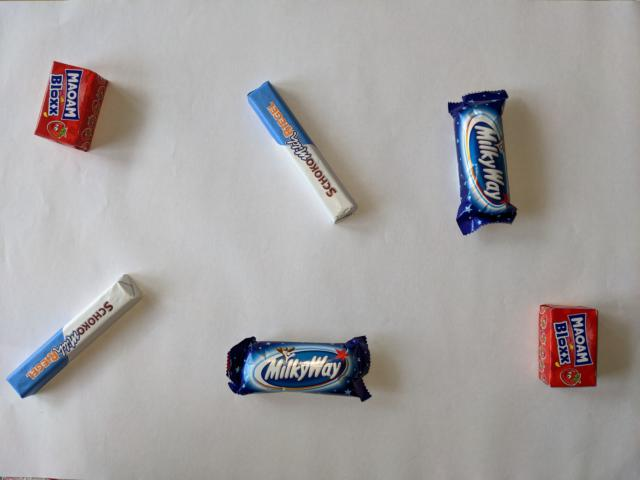MAOAM: (29, 59, 110, 156), (534, 301, 601, 391)
MilkyWay: (445, 88, 520, 237), (225, 333, 373, 404)
Schokoriegel: (3, 271, 146, 403), (245, 80, 359, 226)
